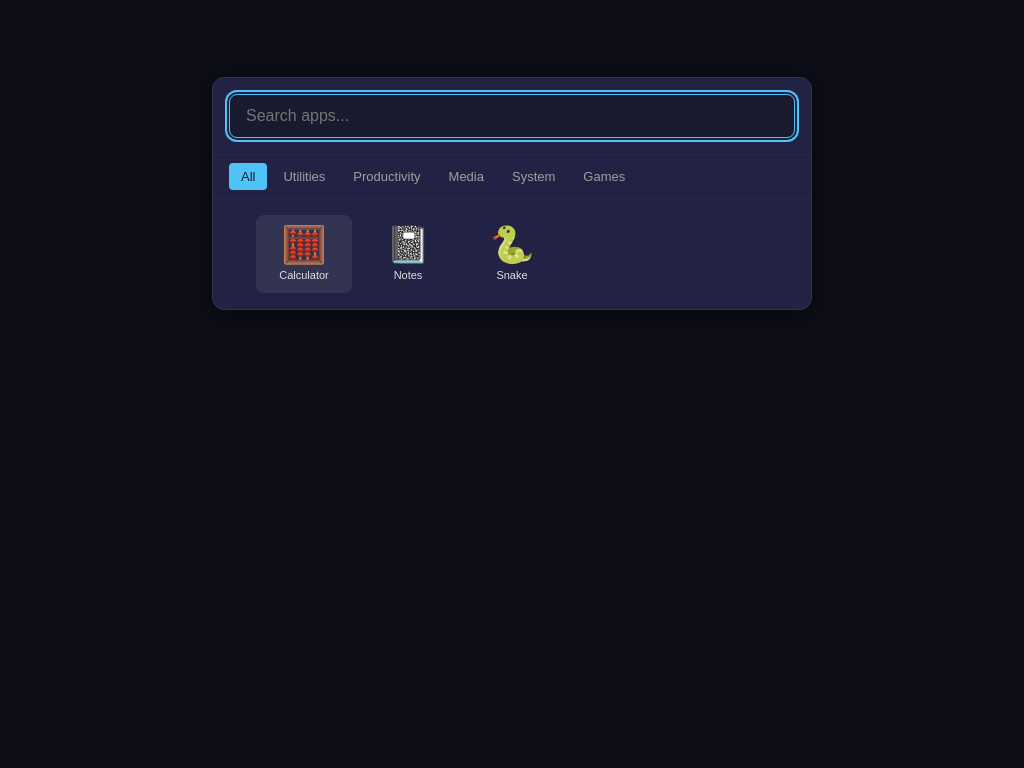
Scenario: AppLauncher › filters by category
This screenshot has width=1024, height=768.
Step 1. Click the tab "Games" → (604, 176), box [571,163,637,190]
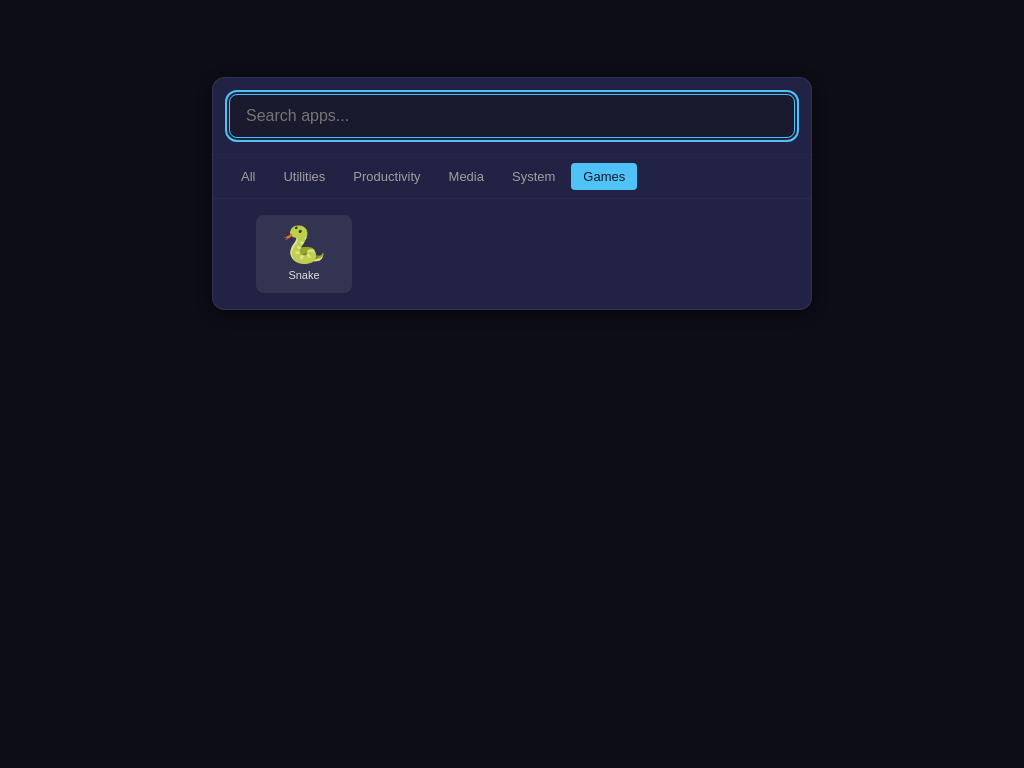
Expected: the text "Snake" is shown, [288,269,320,281]
Expected: the option "Calculator" is gone
